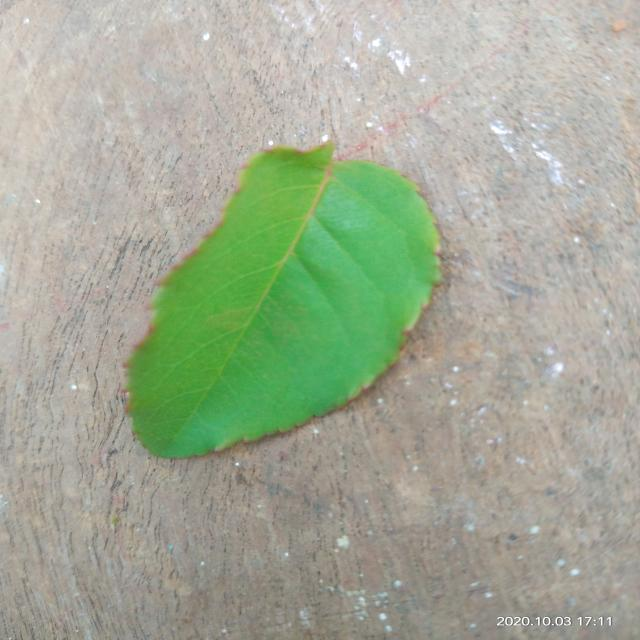rose: (127, 142, 440, 458)
